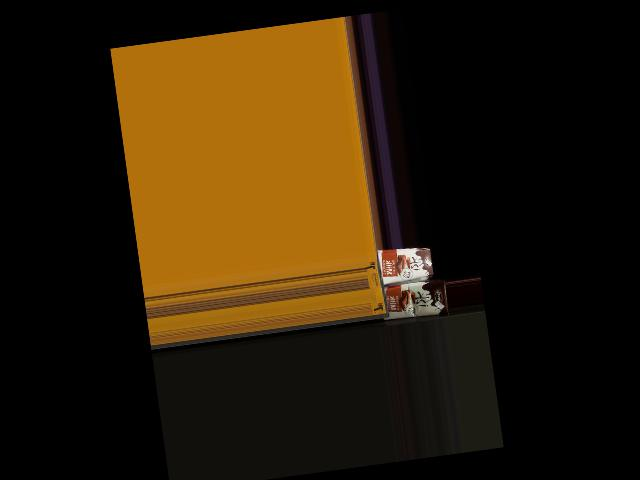chocolate: (370, 240, 435, 285)
